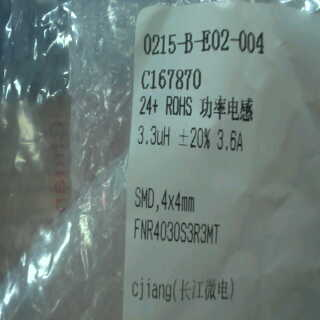3.3uH: (131, 119, 173, 157)
